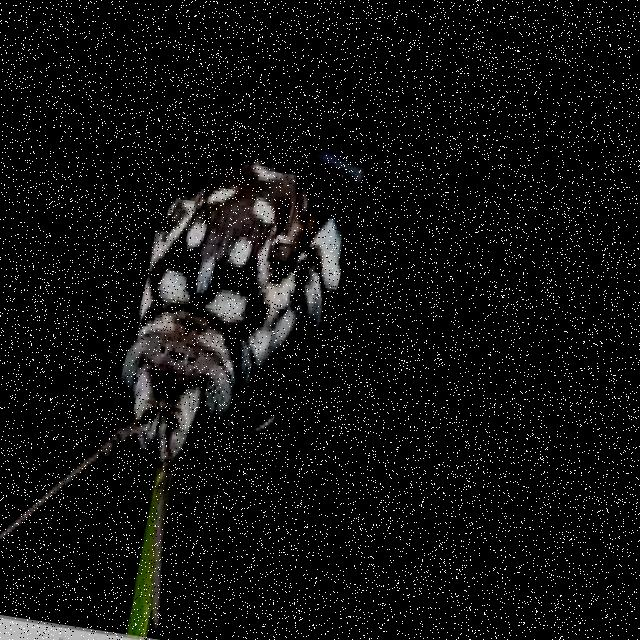Thyreus: (7, 80, 386, 592)
